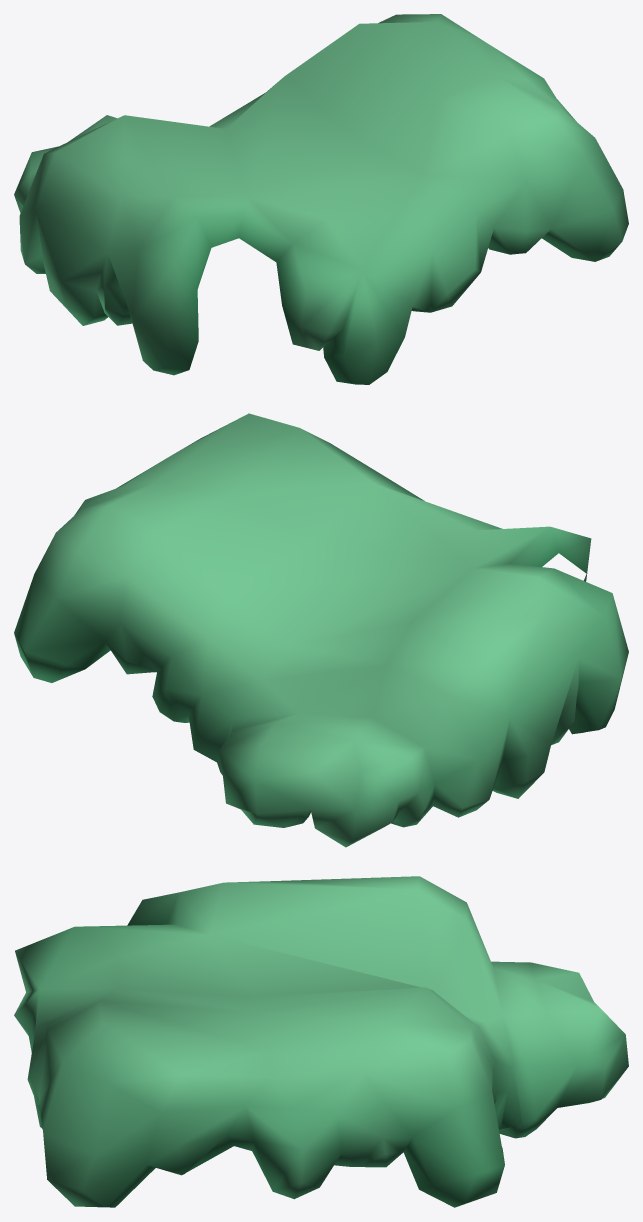
File: WaterRockCSeaweed_11.glb
The picture shows the model from 3 angles, top to bottom: view 1: azimuth 30°, elevation 25°; view 2: azimuth 150°, elevation 25°; view 3: azimuth 270°, elevation 25°; orthographic projection. The views are drawn at different scales.
Visible parts, largest first — view 1: WaterRockCSeaweed; view 2: WaterRockCSeaweed; view 3: WaterRockCSeaweed.
Part boxes in pixels (<box>): WaterRockCSeaweed: <box>14,14,628,384</box>; WaterRockCSeaweed: <box>14,413,628,847</box>; WaterRockCSeaweed: <box>14,876,628,1207</box>.
Bounding box in the file's own units: 3.77 × 1.55 × 3.62.
